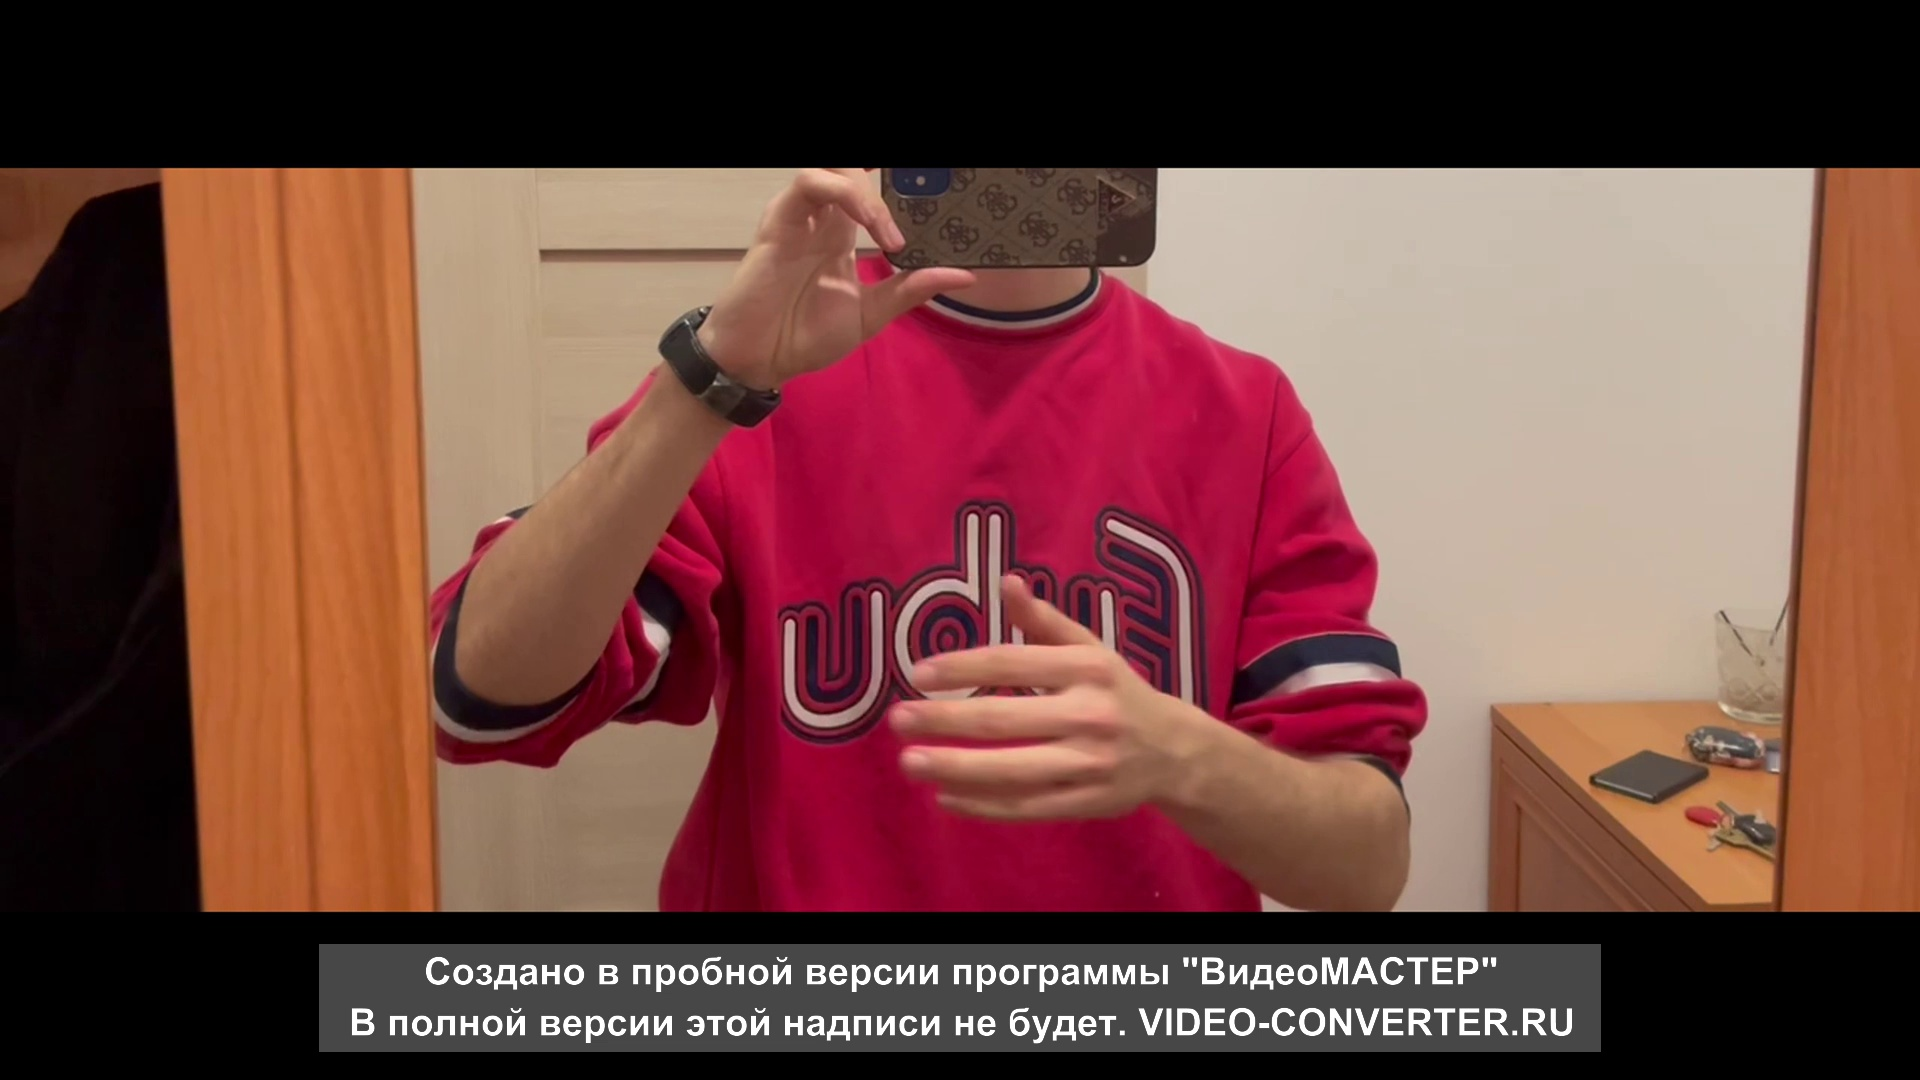Кисть: (893, 576, 1158, 819)
